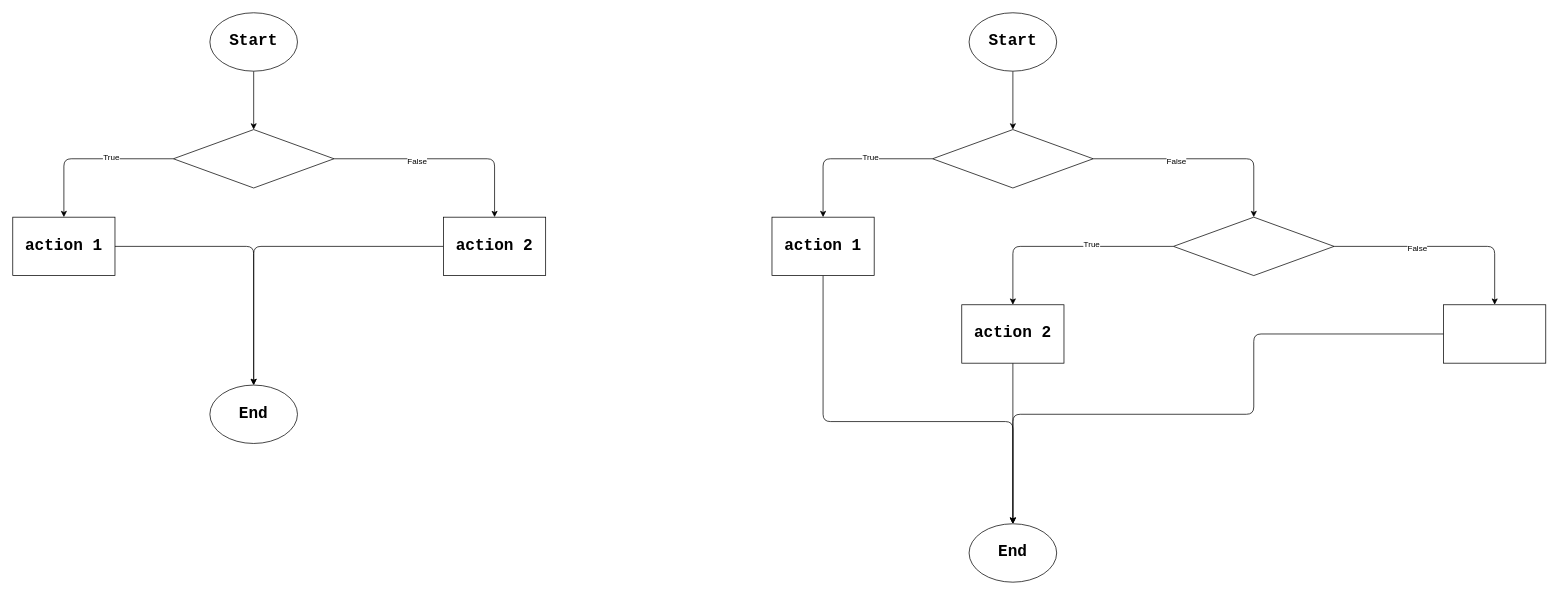
Image size: 1559x595. Some labels were removed from this diagram. The shapes that lost their labels are listed below. From the top down, each one's centre as x and y in pixels, then its label:
At (x=253, y=158): "condition".
At (x=1012, y=158): "condition 1".
At (x=1253, y=246): "condition 2".
At (x=1494, y=333): "action 3".
